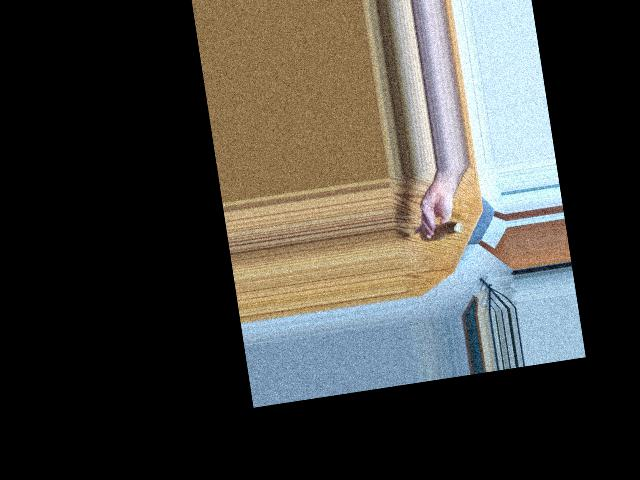sweet_potato: (423, 215, 462, 244)
